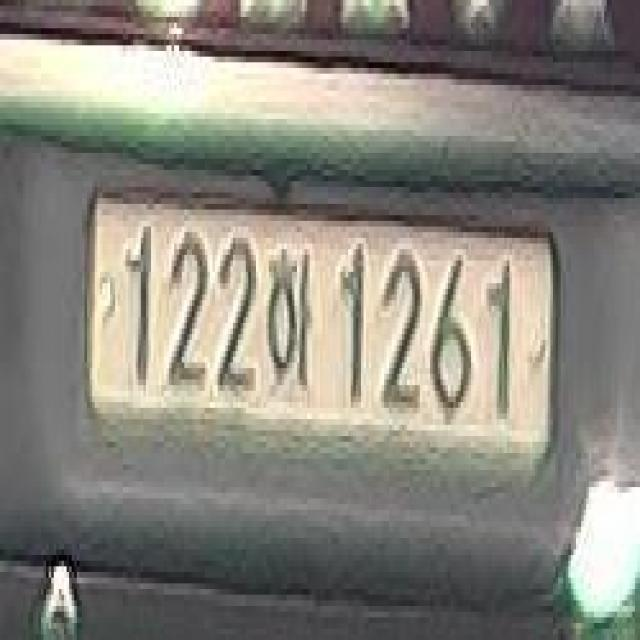illegal_plate: (85, 169, 558, 496)
